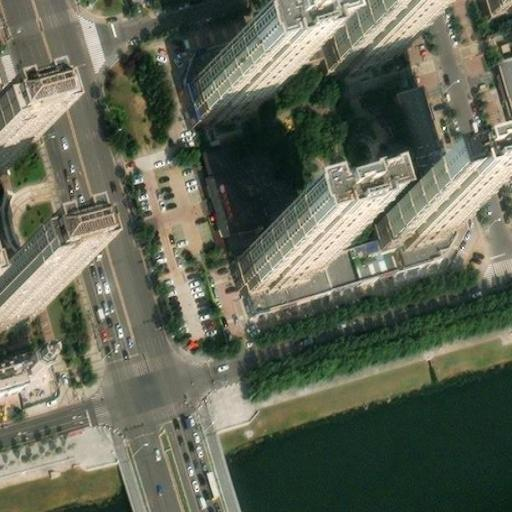building: (251, 217, 462, 304), (200, 99, 278, 249), (398, 81, 454, 201), (239, 230, 334, 282), (188, 56, 281, 109), (327, 9, 415, 56), (373, 195, 461, 241), (0, 273, 41, 319), (0, 352, 42, 392), (493, 57, 512, 116)
